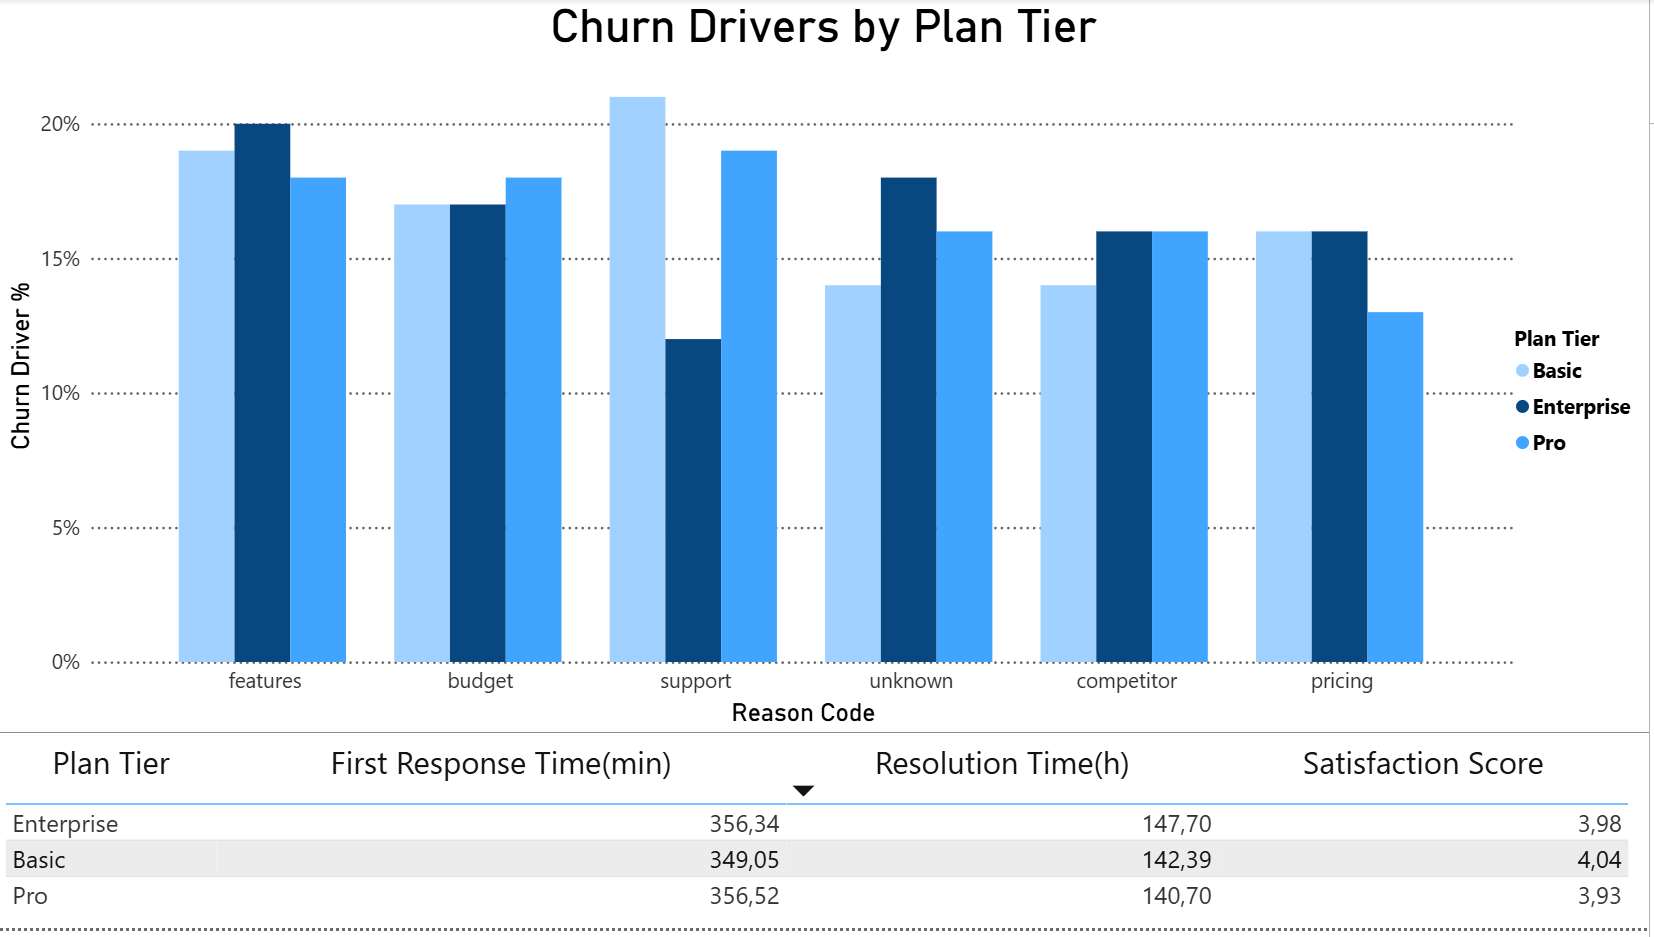

Layout of this report page (visuals, bound fields, positions):
{"tool":"powerbi","page":{"name":"Churn Drivers and Support Performance","canvas":[1280,720],"ordinal":5},"visuals":[{"type":"clusteredColumnChart","title":"Churn Drivers by Plan Tier","fields":{"Category":["churn_reasons_by_plan.reason_code"],"Y":["Sum(churn_reasons_by_plan.churn_driver_pct)"],"Series":["churn_reasons_by_plan.plan_tier"]},"box":[0,0,1280.4,568.7],"z":0},{"type":"tableEx","fields":{"Values":["support_by_plan.plan_tier","Sum(support_by_plan.first_response_time_minutes)","Sum(support_by_plan.resolution_time_hours)","Avg(support_by_plan.satisfaction_score)"]},"box":[0,568.7,1280.4,151.2],"z":1000}]}

Visuals, with their boxes in screenshot pixels (x1, y1, x2, y2), scaled from the page's 1280x720 canvas onto the 1654x937 screenshot:
"Churn Drivers by Plan Tier" clusteredColumnChart: Rect(0, 0, 1653, 740)
tableEx - support_by_plan.plan_tier x Sum(support_by_plan.first_response_time_minutes): Rect(0, 740, 1653, 936)
